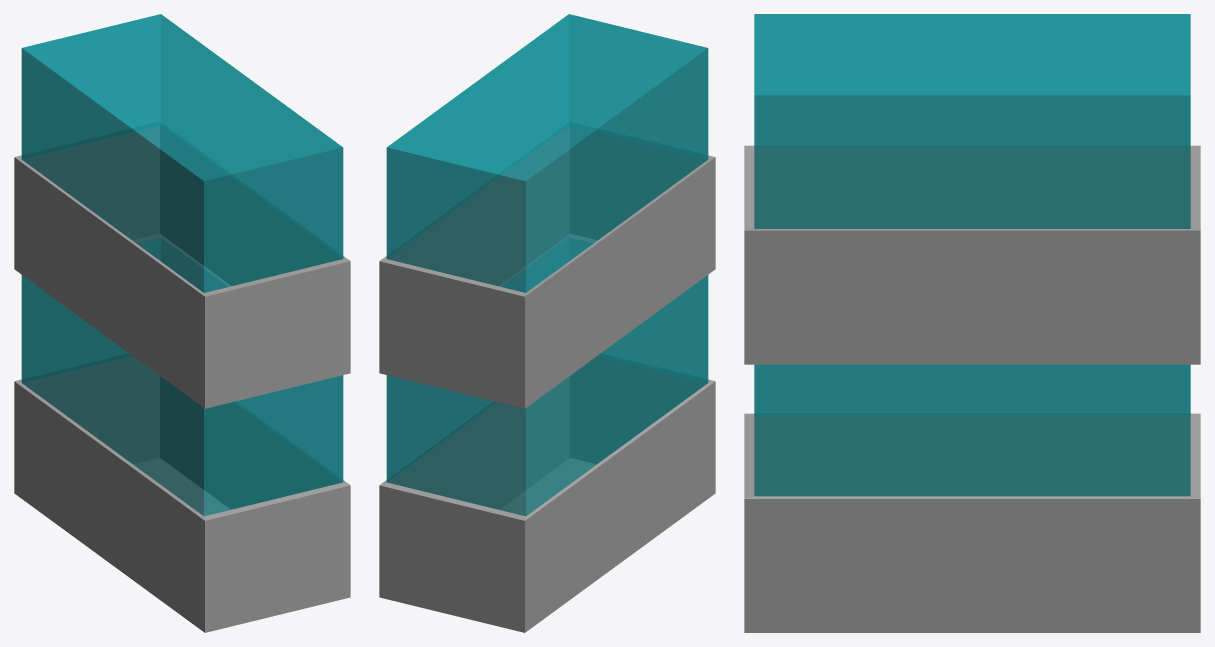
The model's file is dubbelcapsule.fbx.
3 views of the same model, side by side, from view 1: azimuth 30°, elevation 25°; view 2: azimuth 150°, elevation 25°; view 3: azimuth 270°, elevation 25° (orthographic). The views are drawn at different scales.
Parts seen in each view (by area): view 1: fitrine; view 2: fitrine; view 3: fitrine.
Part boxes in pixels (x1=…): fitrine: x1=14, y1=14, x2=350, y2=632; fitrine: x1=379, y1=14, x2=715, y2=632; fitrine: x1=744, y1=14, x2=1200, y2=632.
Size of the model in its own units: 6.18 by 18.13 by 14.01.
